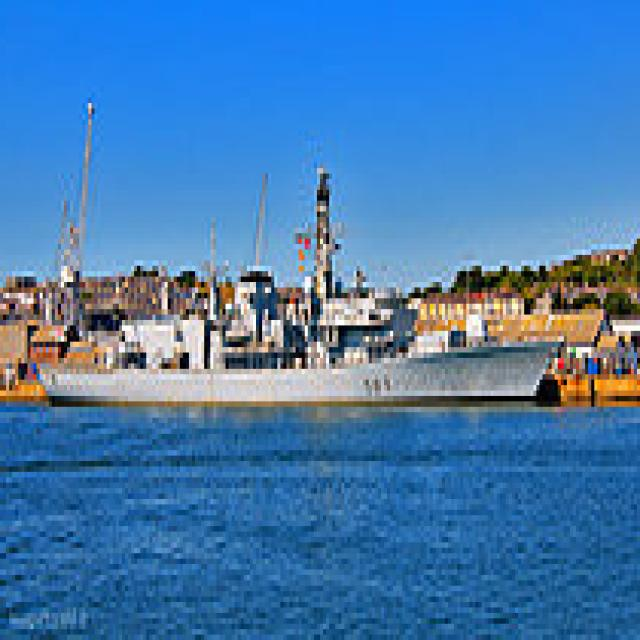Warship: (40, 157, 573, 407)
